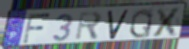3: (52, 12, 75, 43)
F: (21, 12, 52, 45)
Q: (128, 8, 155, 40)
R: (74, 10, 104, 42)
V: (106, 8, 130, 41)
X: (150, 6, 184, 38)
